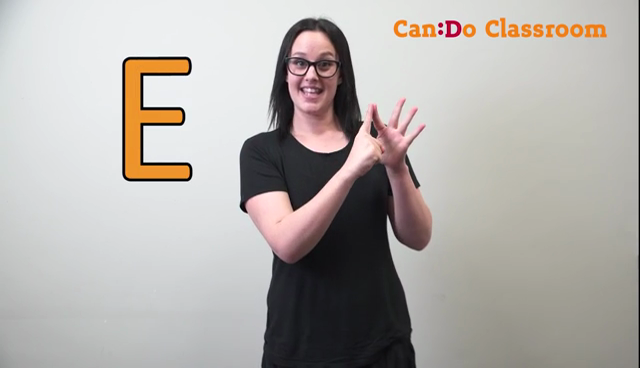E: (337, 93, 440, 175)
